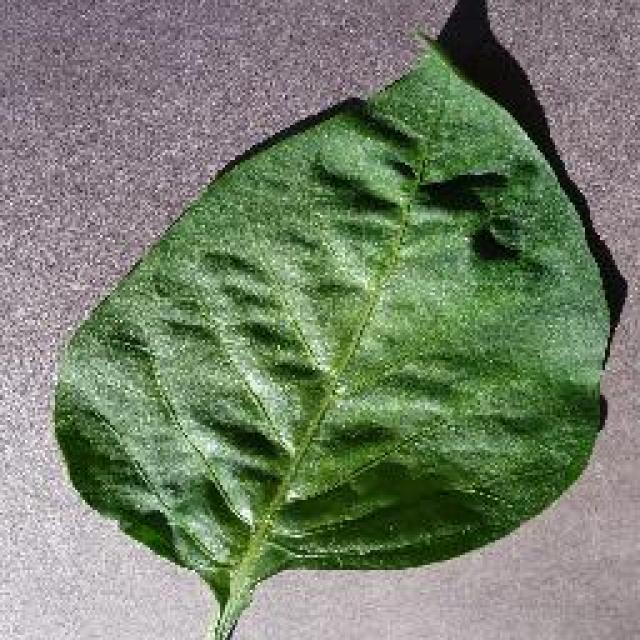Leaf: (67, 27, 627, 607)
